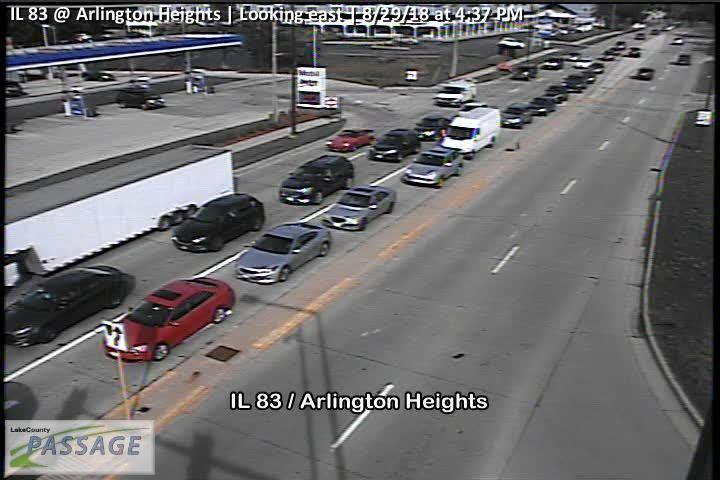SUV: (173, 192, 266, 256), (276, 156, 354, 205), (443, 105, 500, 158), (114, 89, 168, 110), (432, 82, 476, 106)
Sedan: (103, 277, 235, 364), (1, 264, 126, 349), (236, 225, 332, 287), (323, 186, 396, 232), (400, 145, 465, 188), (367, 129, 422, 164), (415, 114, 453, 142), (325, 130, 371, 151), (501, 104, 532, 129), (529, 97, 557, 116), (542, 85, 568, 103), (566, 72, 589, 92), (638, 68, 655, 80)
